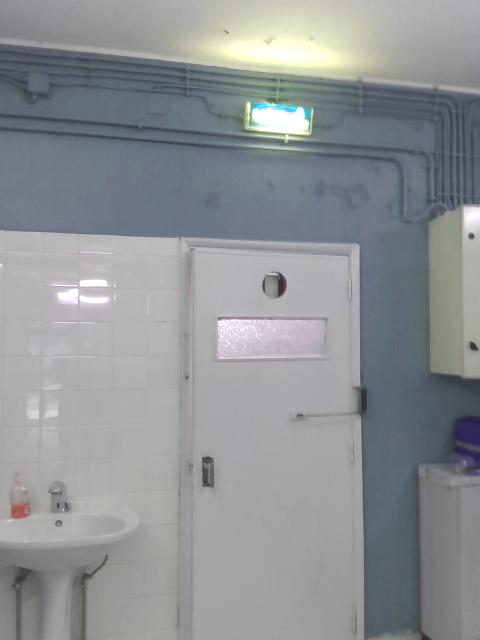closed_door: (177, 234, 364, 639)
